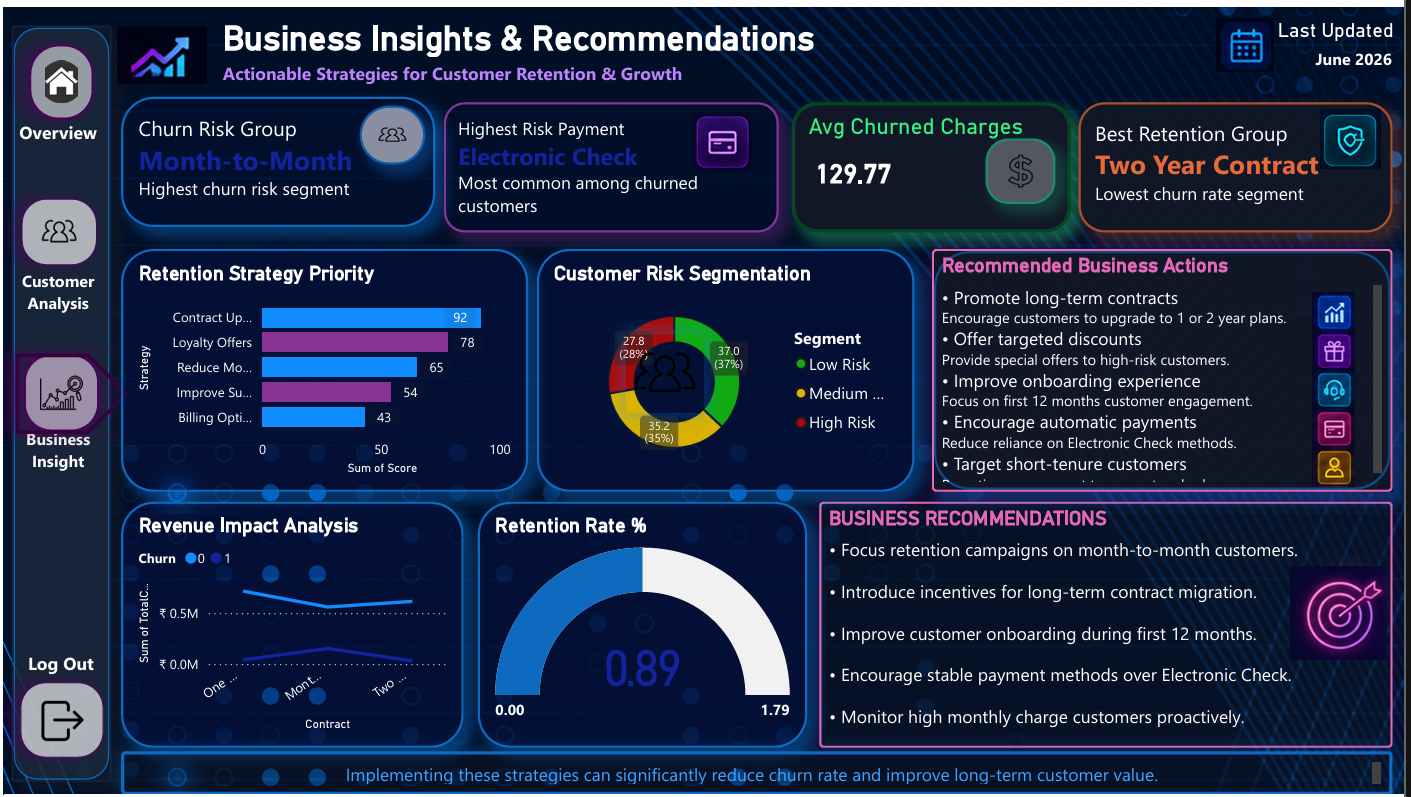

What the dashboard file says about the page in this screenshot:
{"tool":"powerbi","page":{"name":"Business Insights & Recommendations","canvas":[1280,720],"ordinal":2},"visuals":[{"type":"cardVisual","title":"Avg Churned Charges","fields":{"Data":["cleaned_data.Avg Churned Charges"]},"box":[720.2,87.1,255.2,119],"z":0},{"type":"image","box":[325.2,89.6,60.1,54],"z":1000},{"type":"image","box":[896.9,120.2,63.8,60.1],"z":2000},{"type":"image","box":[1203.7,514.1,52.8,49.1],"z":3000},{"type":"shape","title":"Business Insights & Recommendations","box":[200,9.8,710.4,72.4],"z":4000},{"type":"shape","box":[7.4,17.2,90.8,690.8],"z":5000},{"type":"image","box":[23.3,34.4,58.9,68.7],"z":6000},{"type":"image","title":"Insight","box":[18.4,316.6,68.7,71.2],"z":7000},{"type":"image","box":[16,175.5,68.7,60.1],"z":8000},{"type":"actionButton","box":[0,94.5,99.4,40.5],"z":9000},{"type":"actionButton","box":[0,220.9,99.4,78.5],"z":10000},{"type":"actionButton","box":[0,364.4,99.4,78.5],"z":11000},{"type":"image","box":[99.4,0,92,89.6],"z":12000},{"type":"shape","box":[11,316.6,103.1,73.6],"z":13000},{"type":"textbox","title":"BUSINESS RECOMMENDATIONS","box":[744.8,451.5,523.9,225.8],"z":14000},{"type":"actionButton","box":[16,571.8,72.4,54],"z":15000},{"type":"image","box":[14.7,617.2,76.1,68.7],"z":16000},{"type":"textbox","box":[106.7,82.2,287.1,119],"z":17000},{"type":"textbox","box":[402.5,87.1,305.5,119],"z":18000},{"type":"textbox","box":[981.6,87.1,287.1,119],"z":19000},{"type":"clusteredBarChart","title":"Retention Strategy Priority","fields":{"Y":["Sum(StrategyPriority.Score)"],"Category":["StrategyPriority.Strategy"]},"box":[106.7,220.9,371.8,222.1],"z":20000},{"type":"donutChart","title":"Customer Risk Segmentation","fields":{"Category":["RiskSegments.Segment"],"Y":["Sum(RiskSegments.Percentage)"]},"box":[487.1,220.9,344.8,222.1],"z":21000},{"type":"image","box":[568.1,299.4,72.4,71.2],"z":22000},{"type":"lineChart","title":"Revenue Impact Analysis","fields":{"Category":["cleaned_data.Contract"],"Y":["Sum(cleaned_data.TotalCharges)"],"Series":["cleaned_data.Churn"]},"box":[106.7,451.5,312.9,225.8],"z":23000},{"type":"gauge","fields":{"Y":["cleaned_data.Retention Rate %"]},"box":[433.1,451.5,300.6,225.8],"z":24000},{"type":"textbox","box":[106.7,679.8,1162,40.5],"z":25000},{"type":"image","box":[1170.6,499.4,98.2,108],"z":26000},{"type":"shape","box":[847.9,220.9,420.9,222.1],"z":27000},{"type":"textbox","title":"Recommended Business Actions","box":[847.9,220.9,420.9,222.1],"z":28000},{"type":"image","box":[1159.5,256.4,109.2,186.5],"z":29000},{"type":"image","box":[1197.6,85.9,65,68.7],"z":30000},{"type":"image","box":[623.3,89.6,65,65],"z":30001},{"type":"shape","title":"Last Updated","box":[1159.5,9.8,110.4,46.6],"z":30002},{"type":"image","box":[1096.9,4.9,73.6,58.9],"z":30003}]}

Visuals, with their boxes on the page's 1280x720 design canvas (x1, y1, x2, y2). These are canvas units, not pixel positions in the 1411x797 screenshot, which may show the page scaled, cropped or inside an application window:
"Avg Churned Charges" cardVisual: (720,87,975,206)
image: (325,90,385,144)
image: (897,120,961,180)
image: (1204,514,1256,563)
"Business Insights & Recommendations" shape: (200,10,910,82)
shape: (7,17,98,708)
image: (23,34,82,103)
"Insight" image: (18,317,87,388)
image: (16,176,85,236)
actionButton: (0,94,99,135)
actionButton: (0,221,99,299)
actionButton: (0,364,99,443)
image: (99,0,191,90)
shape: (11,317,114,390)
"BUSINESS RECOMMENDATIONS" textbox: (745,452,1269,677)
actionButton: (16,572,88,626)
image: (15,617,91,686)
textbox: (107,82,394,201)
textbox: (402,87,708,206)
textbox: (982,87,1269,206)
"Retention Strategy Priority" clusteredBarChart: (107,221,478,443)
"Customer Risk Segmentation" donutChart: (487,221,832,443)
image: (568,299,640,371)
"Revenue Impact Analysis" lineChart: (107,452,420,677)
gauge - cleaned_data.Retention Rate %: (433,452,734,677)
textbox: (107,680,1269,720)
image: (1171,499,1269,607)
shape: (848,221,1269,443)
"Recommended Business Actions" textbox: (848,221,1269,443)
image: (1160,256,1269,443)
image: (1198,86,1263,155)
image: (623,90,688,155)
"Last Updated" shape: (1160,10,1270,56)
image: (1097,5,1170,64)
